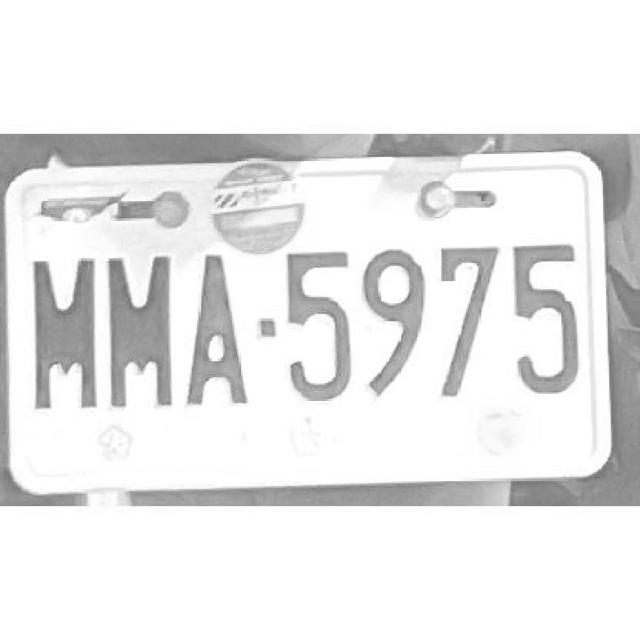-: (257, 317, 278, 340)
5: (508, 236, 584, 402), (282, 246, 352, 408)
7: (429, 235, 503, 400)
9: (352, 240, 430, 398)
A: (182, 247, 249, 416)
M: (100, 254, 172, 414), (30, 254, 99, 408)
